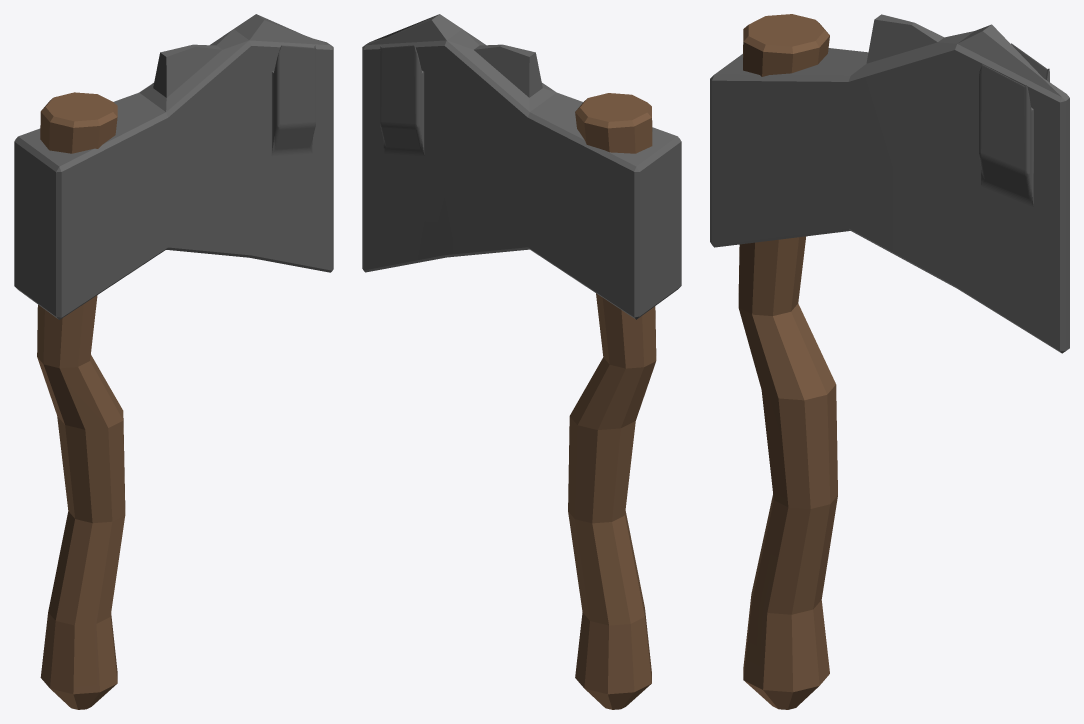
File: axe.glb
3 renders of one model, left to right at view 1: azimuth 30°, elevation 25°; view 2: azimuth 150°, elevation 25°; view 3: azimuth 330°, elevation 25°, orthographic. The views are drawn at different scales.
Visible parts, largest first — view 1: axe; view 2: axe; view 3: axe.
Boxes of the visible parts, x1=… form: axe: x1=14, y1=14, x2=333, y2=709; axe: x1=362, y1=14, x2=681, y2=709; axe: x1=710, y1=14, x2=1069, y2=709.
Bounding box in the file's own units: 0.4569 × 0.9485 × 0.1215.
Materials: 1 (1 with a texture image).
